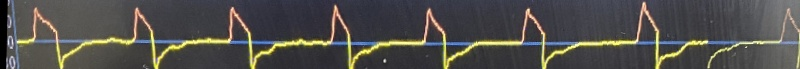normal_flow: (9, 0, 748, 69)
